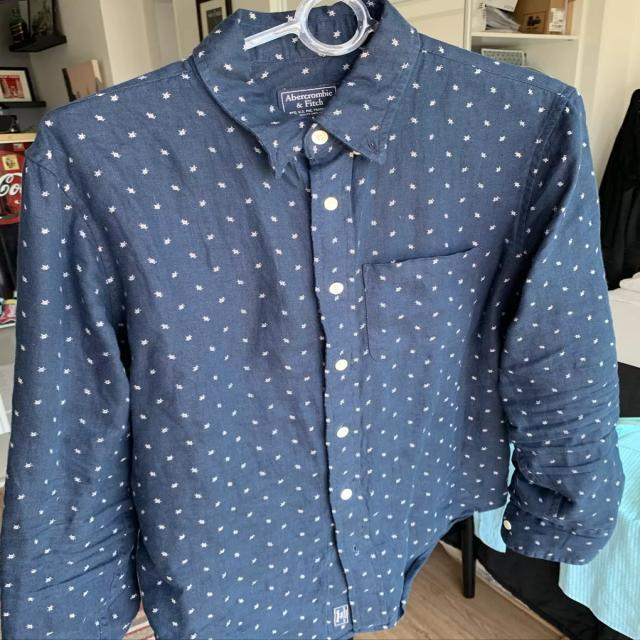long sleeve shirt: (0, 0, 628, 640)
